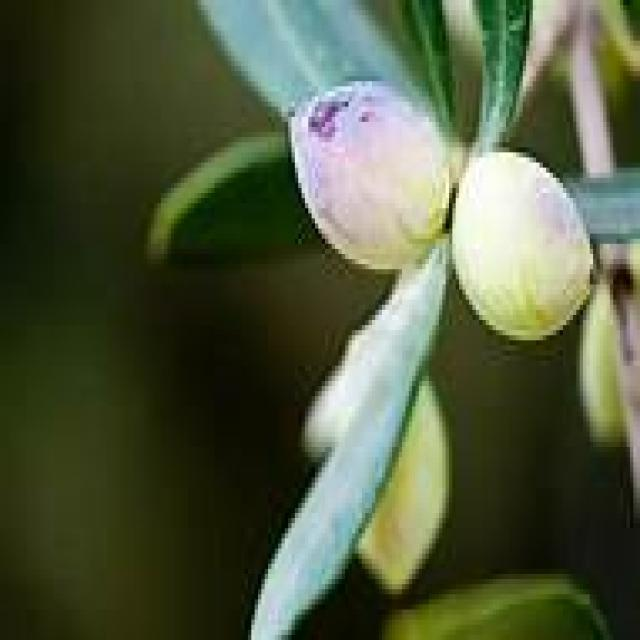Anthracnose: (288, 81, 462, 264)
